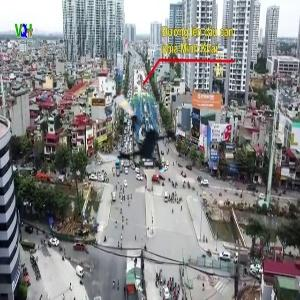drone: (93, 92, 182, 181)
